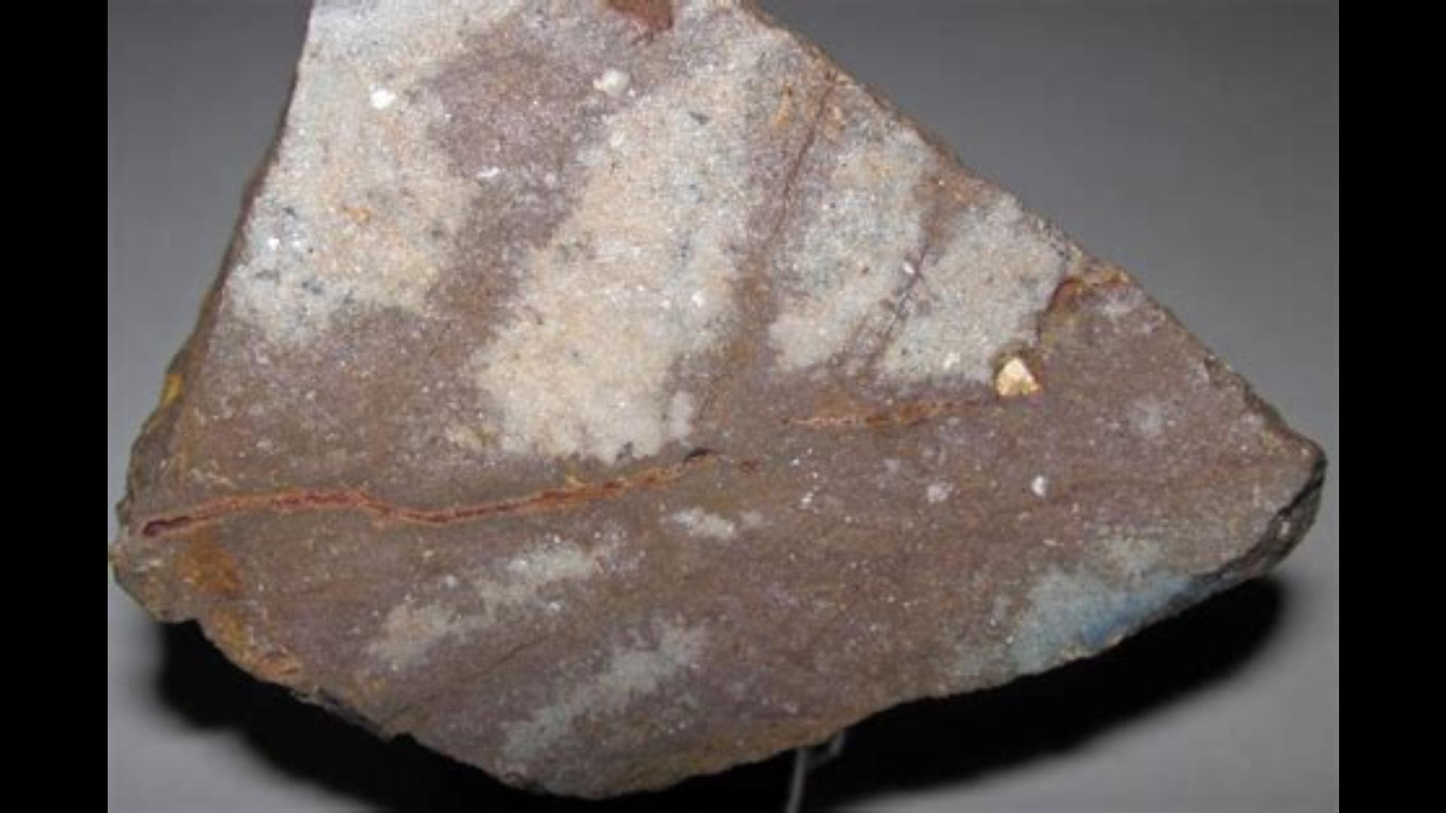rock: (112, 3, 1321, 795)
